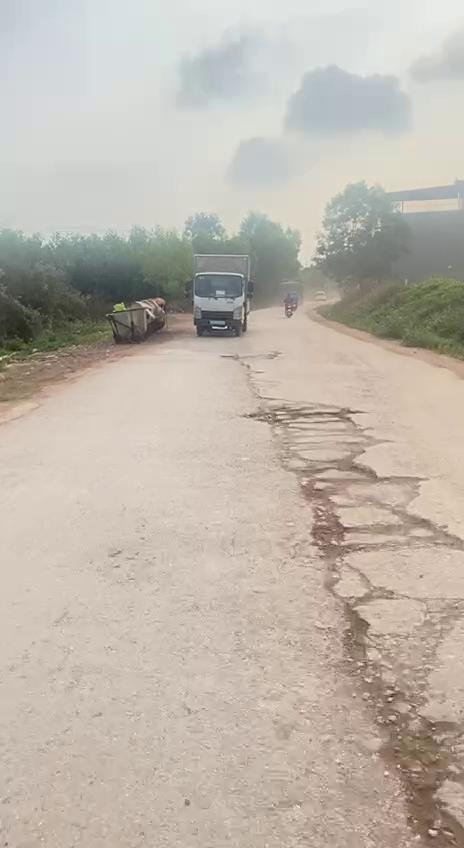pothole: (335, 594, 464, 848), (292, 454, 348, 590), (243, 398, 358, 428)
